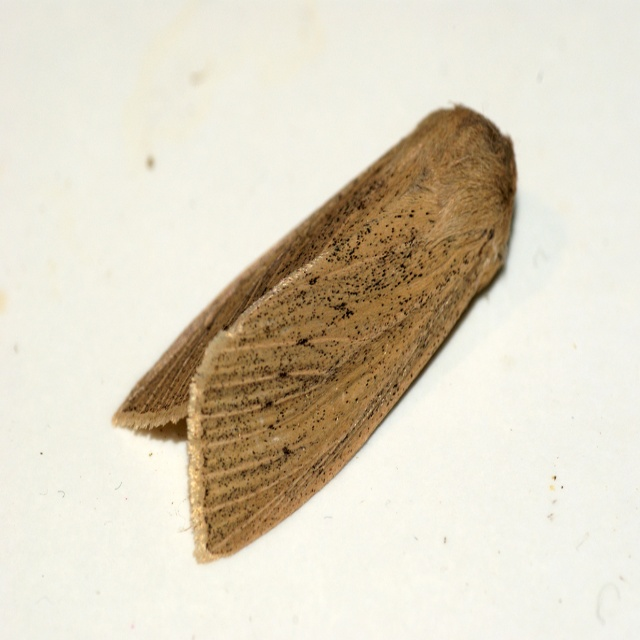Moths and butterflies: (107, 99, 518, 564)
